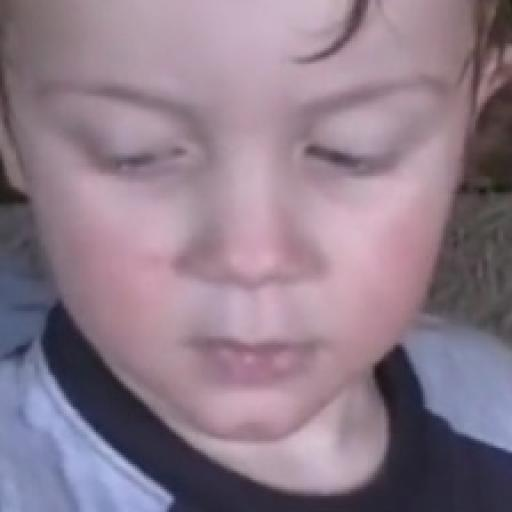Autism: (27, 2, 512, 460)
